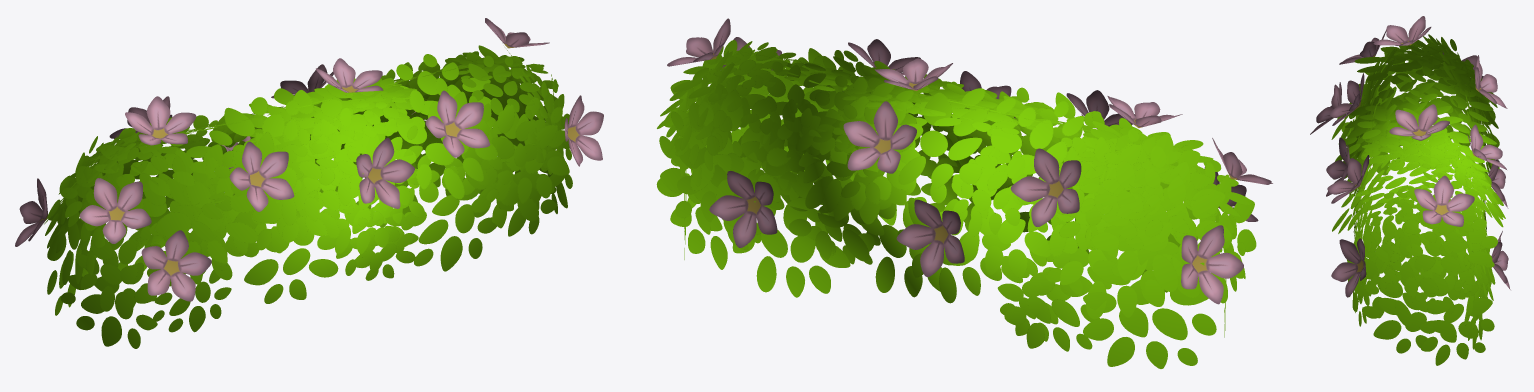
File: Bush_Small_Flowers.gltf
3 renders of one model, left to right at view 1: azimuth 30°, elevation 25°; view 2: azimuth 150°, elevation 25°; view 3: azimuth 270°, elevation 25°, orthographic. The views are drawn at different scales.
Parts seen in each view (by area): view 1: Bush_Small_Flowers; view 2: Bush_Small_Flowers; view 3: Bush_Small_Flowers.
Part boxes in pixels (x1,y1,x2,y2): Bush_Small_Flowers: [15, 18, 603, 348]; Bush_Small_Flowers: [656, 18, 1272, 368]; Bush_Small_Flowers: [1310, 16, 1510, 365].
Size of the model in its own units: 0.9312 by 0.395 by 0.3684.
Materials: 2 (2 with a texture image).
